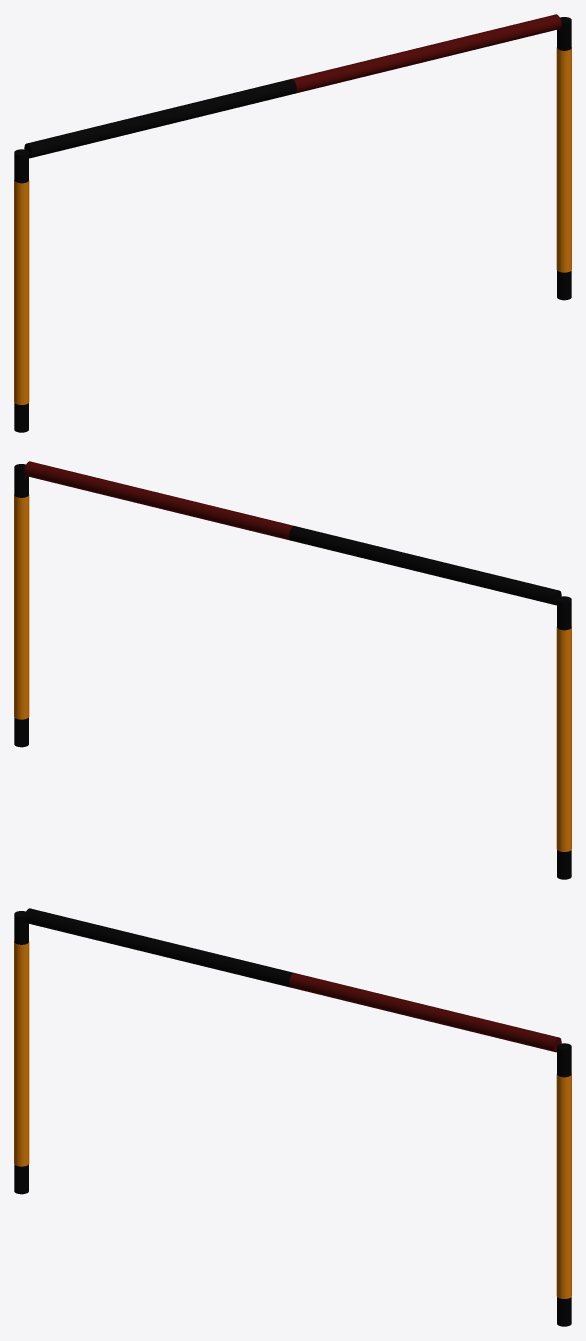
Rendered from StartGate.dae.
3 renders of one model, top to bottom at view 1: azimuth 30°, elevation 25°; view 2: azimuth 150°, elevation 25°; view 3: azimuth 330°, elevation 25°, orthographic.
Parts seen in each view (by area): view 1: gate_top_left, gate_top_right, gate_right_orange, gate_left_orange, gate_left_black, gate_right_black; view 2: gate_top_left, gate_top_right, gate_right_orange, gate_left_orange, gate_left_black, gate_right_black; view 3: gate_top_right, gate_top_left, gate_left_orange, gate_right_orange, gate_right_black, gate_left_black.
Part boxes in pixels (x1,y1,x2,y2): gate_top_left: [24, 79, 296, 158]; gate_top_right: [292, 14, 561, 93]; gate_right_orange: [556, 47, 571, 272]; gate_left_orange: [14, 180, 29, 404]; gate_left_black: [14, 149, 28, 432]; gate_right_black: [557, 17, 571, 300]; gate_top_left: [289, 526, 561, 605]; gate_top_right: [24, 461, 293, 540]; gate_right_orange: [14, 494, 29, 719]; gate_left_orange: [556, 627, 571, 851]; gate_left_black: [557, 596, 571, 879]; gate_right_black: [14, 464, 28, 747]; gate_top_right: [289, 973, 561, 1052]; gate_top_left: [24, 908, 293, 987]; gate_left_orange: [14, 941, 29, 1166]; gate_right_orange: [556, 1074, 571, 1298]; gate_right_black: [557, 1043, 571, 1326]; gate_left_black: [14, 911, 28, 1194].
Size of the model in its own units: 3.2 by 0.0762 by 1.56.
